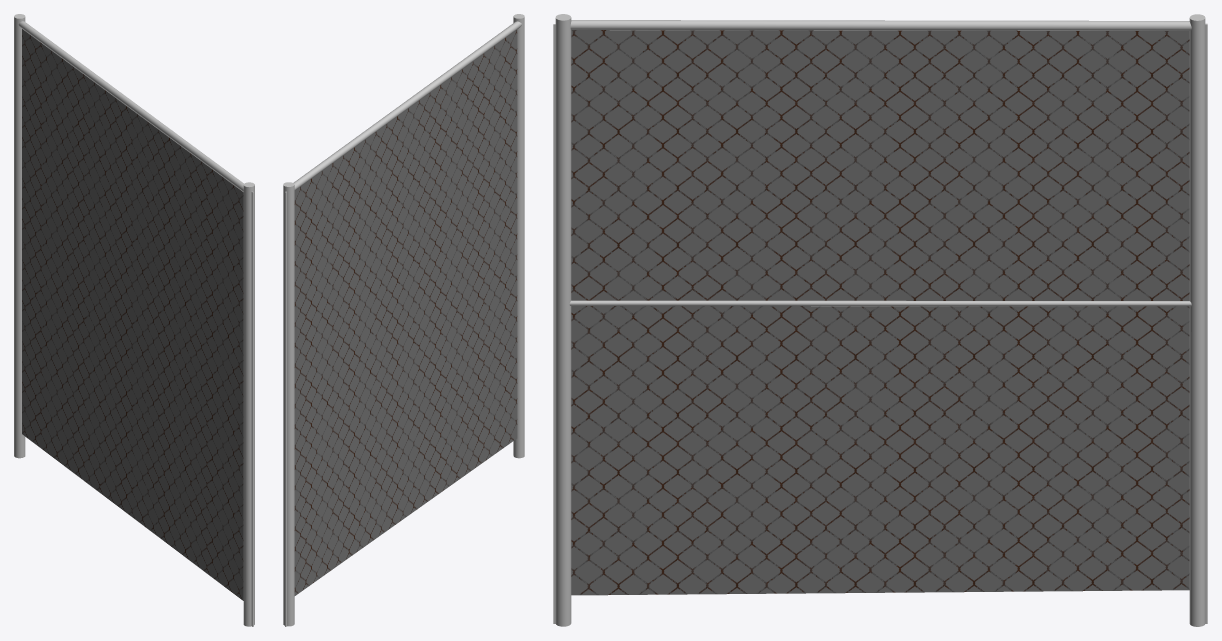
File: SM_WireFence_A.fbx
The picture shows the model from 3 angles, left to right: view 1: azimuth 30°, elevation 25°; view 2: azimuth 150°, elevation 25°; view 3: azimuth 270°, elevation 25°; orthographic projection. The views are drawn at different scales.
Parts seen in each view (by area): view 1: SM_WireFence_A_LOD0; view 2: SM_WireFence_A_LOD0; view 3: SM_WireFence_A_LOD0.
Boxes of the visible parts, left/top/right/bottom form: SM_WireFence_A_LOD0: left=14, top=14, right=254, bottom=626; SM_WireFence_A_LOD0: left=283, top=14, right=524, bottom=626; SM_WireFence_A_LOD0: left=553, top=14, right=1207, bottom=626.
Bounding box in the file's own units: 7.51 × 300 × 307.
Materials: 2 (1 with a texture image).
